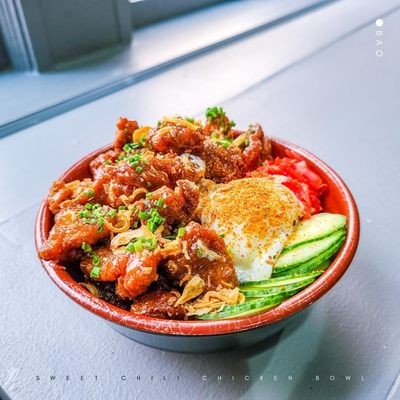curry: (0, 3, 400, 393)
